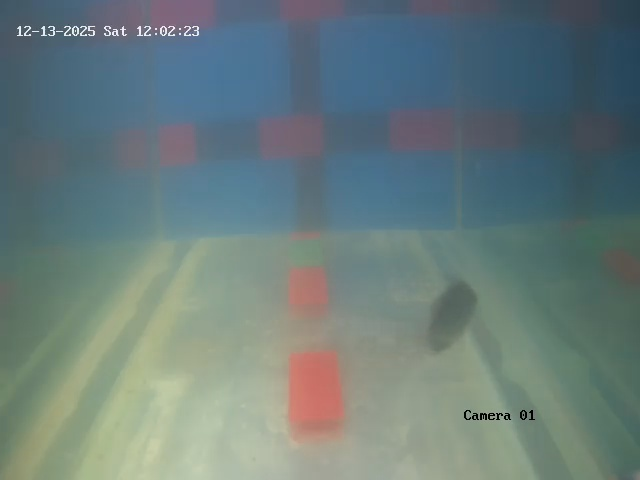fish: (412, 275, 483, 355)
